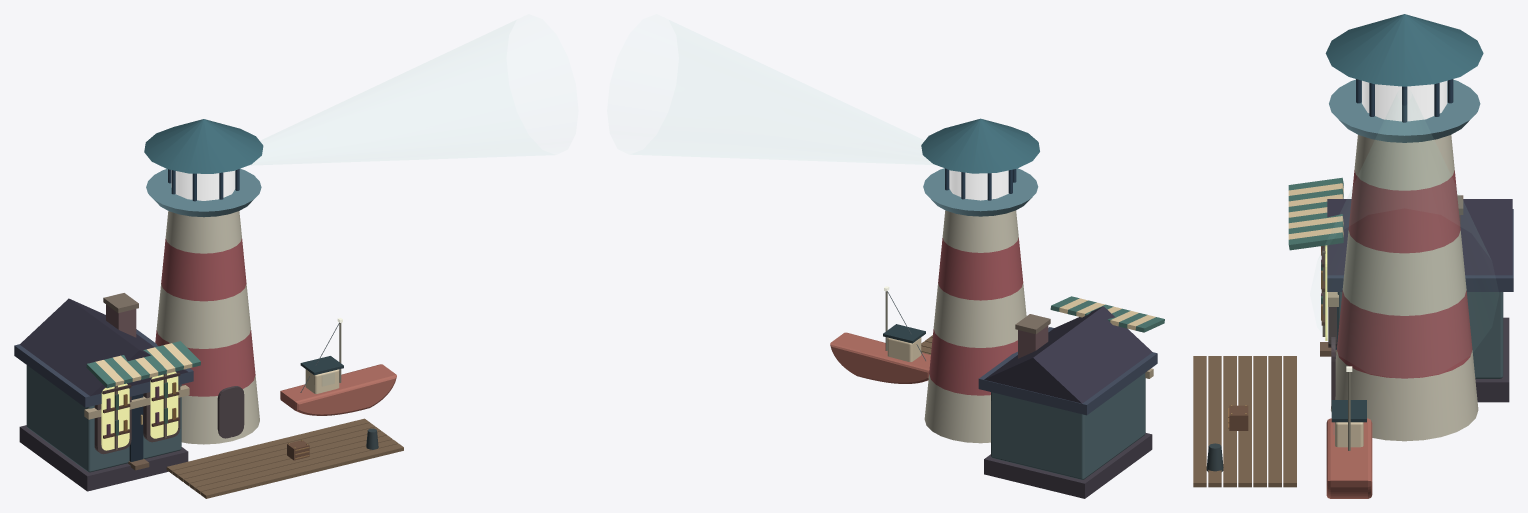
Rendered from harbour-map.glb.
3 renders of one model, left to right at view 1: azimuth 30°, elevation 25°; view 2: azimuth 150°, elevation 25°; view 3: azimuth 270°, elevation 25°, orthographic. The views are drawn at different scales.
Visible parts, largest first — view 1: place-static, lighthouse, fishing-boat; view 2: place-static, lighthouse, fishing-boat; view 3: lighthouse, place-static, fishing-boat.
Part boxes in pixels (<box>): place-static: <box>14,293,403,498</box>; lighthouse: <box>144,119,263,444</box>; fishing-boat: <box>280,318,396,415</box>; place-static: <box>921,296,1164,498</box>; lighthouse: <box>921,118,1039,443</box>; fishing-boat: <box>830,286,930,383</box>; lighthouse: <box>1325,14,1483,441</box>; place-static: <box>1193,177,1513,487</box>; fishing-boat: <box>1326,366,1372,498</box>.
Bounding box in the file's own units: 9.34 × 6.13 × 4.05.
